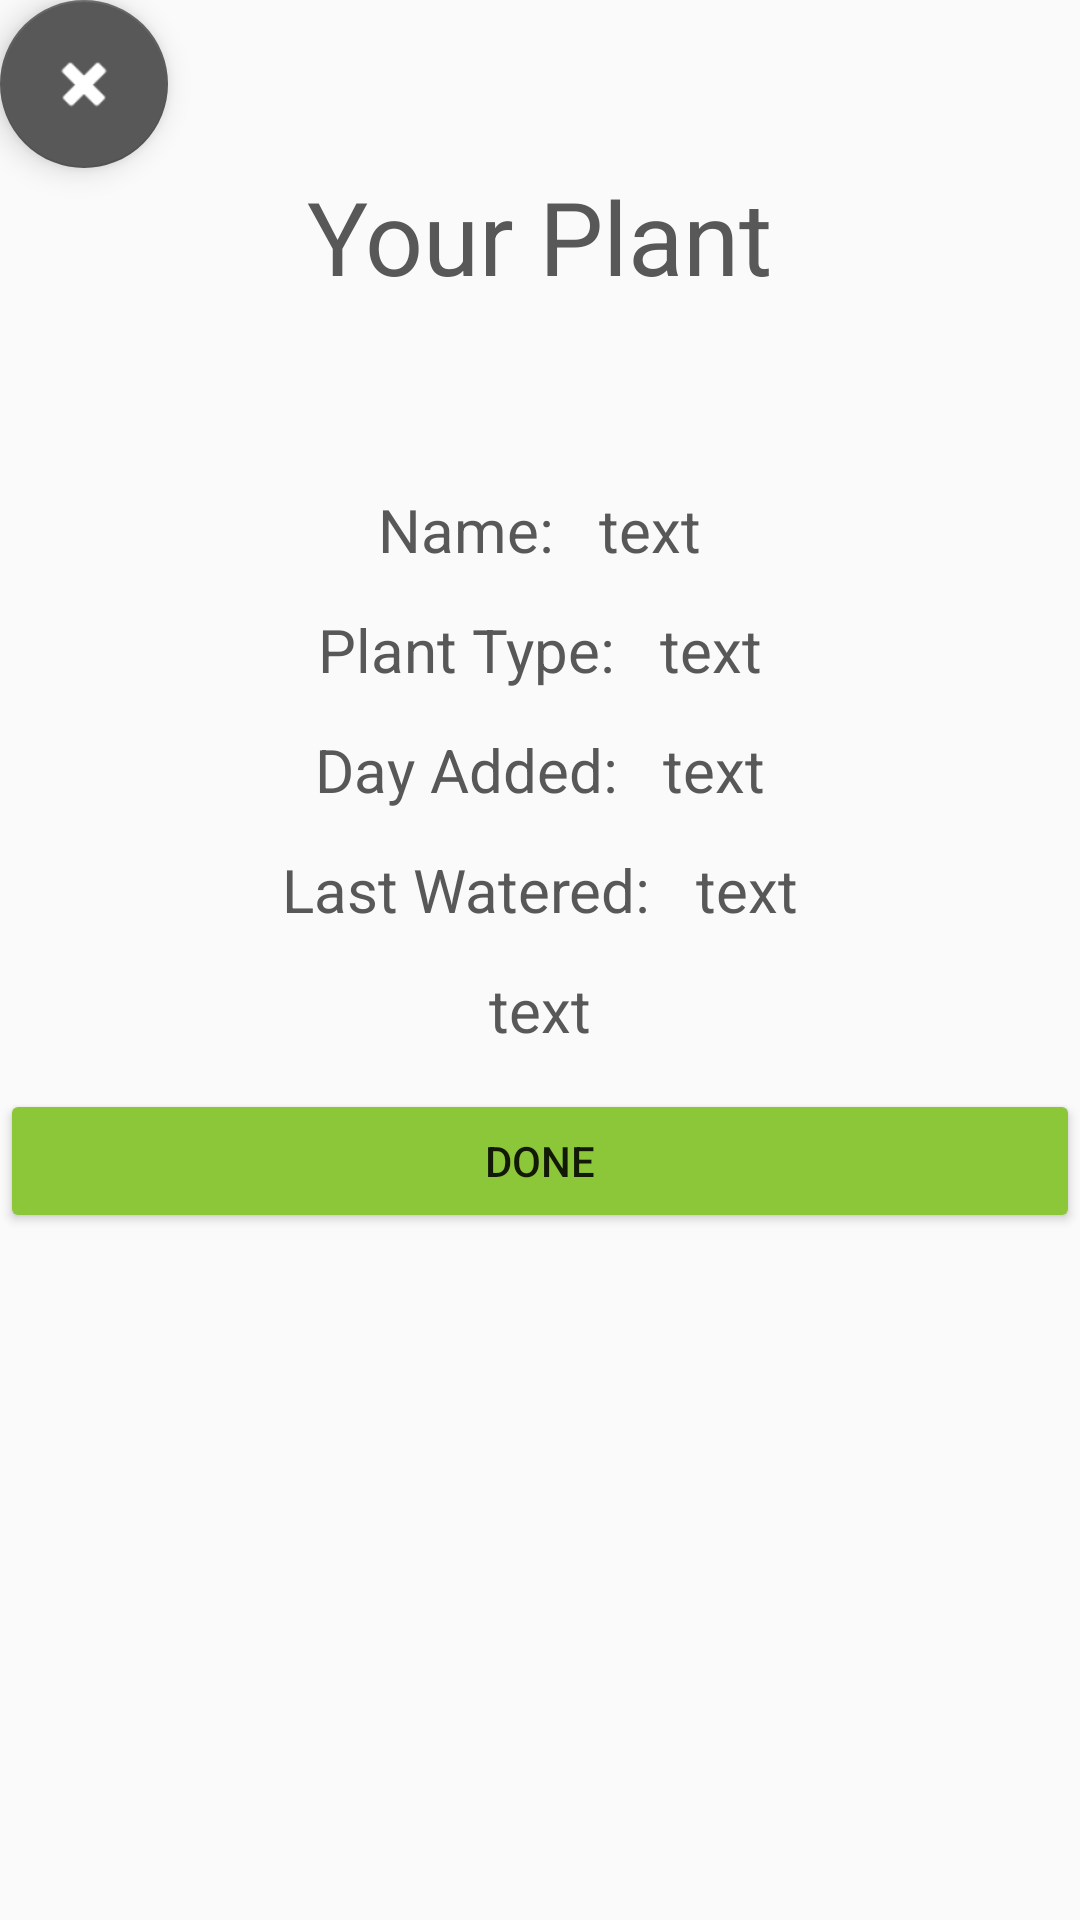

Icon click points for this 1080 x 1920 phone screenshot, format point (x, y):
delete: point (84, 84)
